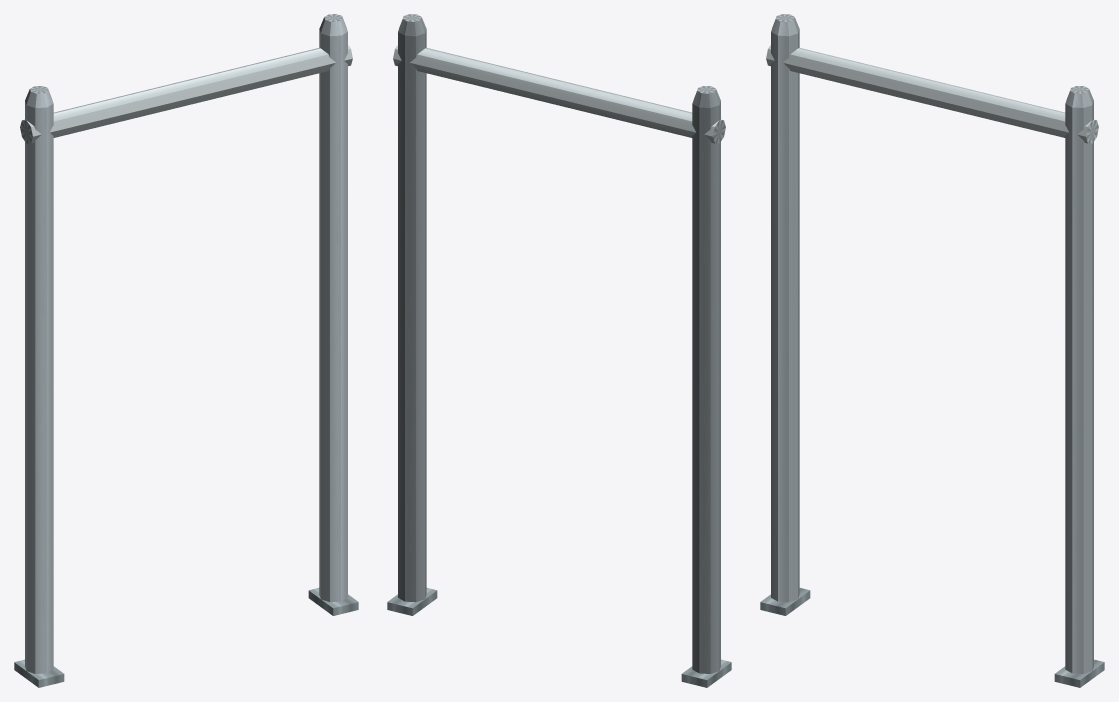
File: pool_guardrail_end.glb
3 renders of one model, left to right at view 1: azimuth 30°, elevation 25°; view 2: azimuth 150°, elevation 25°; view 3: azimuth 330°, elevation 25°, orthographic.
Visible parts, largest first — view 1: core_pool_guardrail_end; view 2: core_pool_guardrail_end; view 3: core_pool_guardrail_end.
Part boxes in pixels (x1,y1,x2,y2): core_pool_guardrail_end: [14, 14, 358, 687]; core_pool_guardrail_end: [387, 14, 731, 687]; core_pool_guardrail_end: [760, 14, 1104, 687].
Bounding box in the file's own units: 0.6 × 1.05 × 0.08.
1 material, 1 textured.
